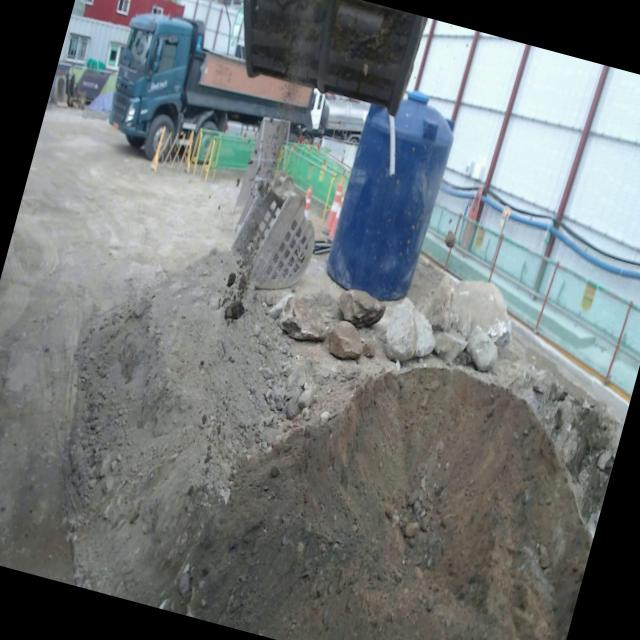red-sand: (169, 368, 592, 640)
stone: (416, 272, 513, 350), (384, 298, 435, 360), (279, 295, 332, 341), (338, 289, 386, 327), (325, 320, 364, 359), (466, 326, 497, 371), (433, 332, 466, 362)
white-sand: (66, 250, 289, 607)
